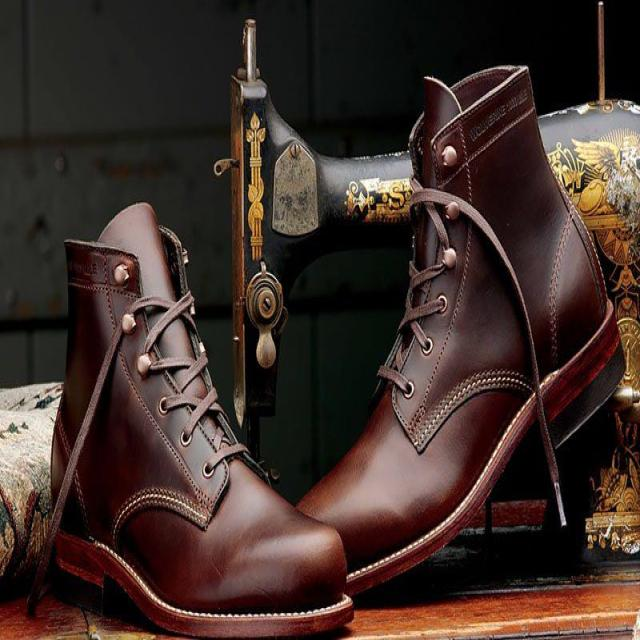boot: (284, 53, 624, 553), (32, 183, 368, 632)
